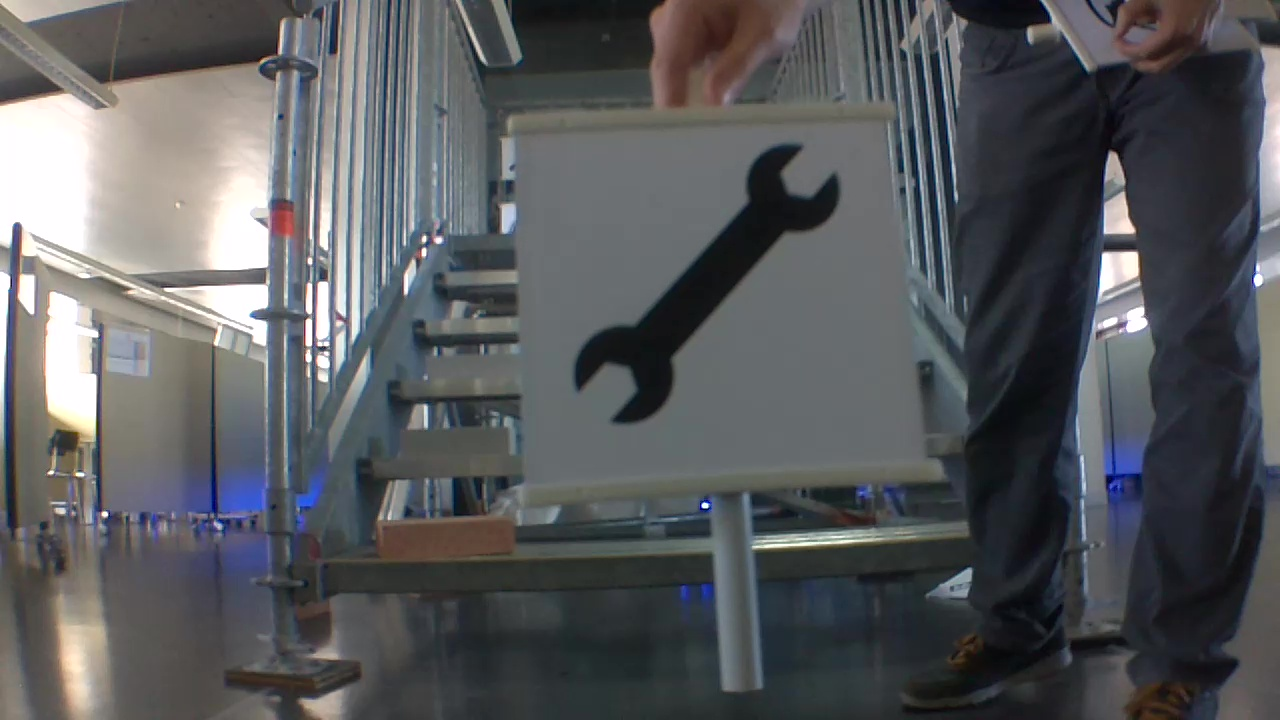brick: (372, 518, 521, 560), (398, 427, 518, 457), (421, 355, 521, 376)
wrench: (570, 134, 844, 430)
